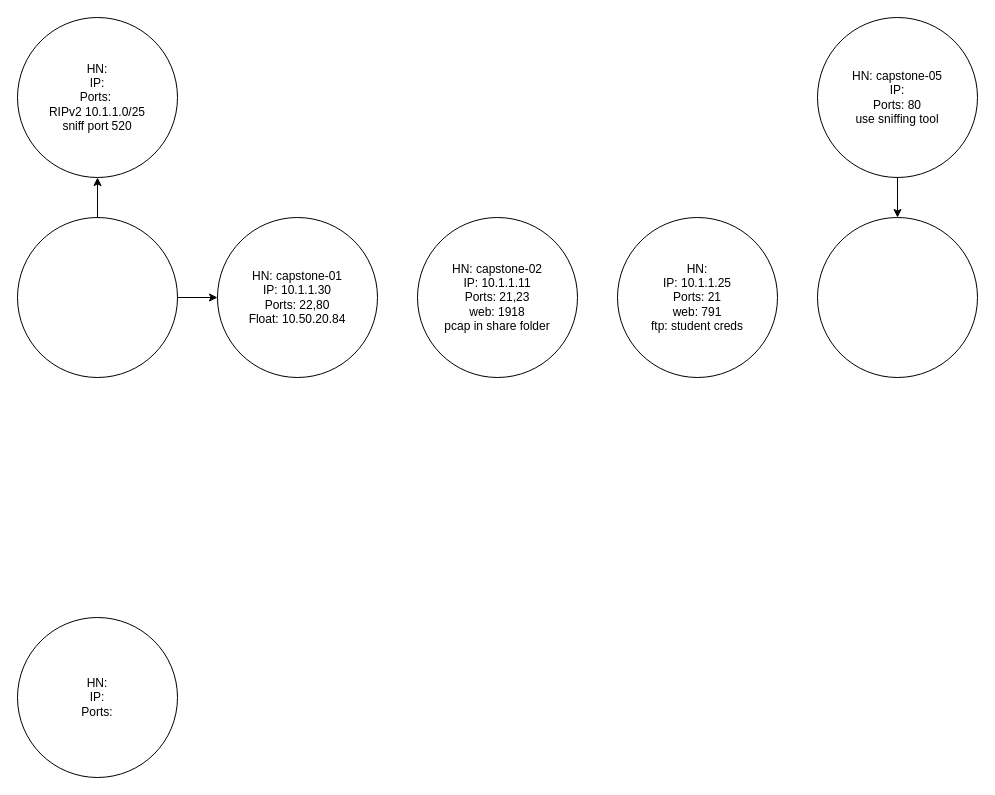
The diagram is 995 pixels wide and 795 high, and some of its shapes have lost their labels. The centre of each missing label's shape, as x and y in pixels:
"HN: BIH IP: 10.10.0.40 Ports: 21,22,23,80 Float: 10.50.24.152" belongs at pixel 97 297.
"HN: IP: 10.1.1.33 Ports: 21,23,80" belongs at pixel 897 297.
